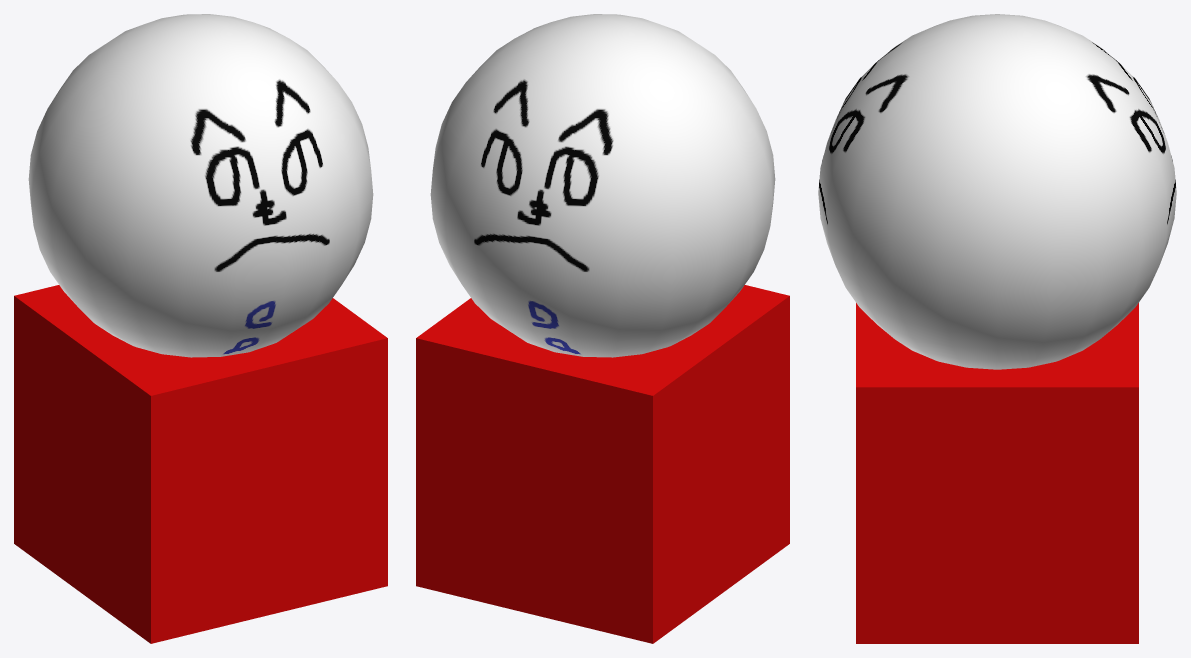
Rendered from sample.fbx.
3 views of the same model, side by side, from view 1: azimuth 30°, elevation 25°; view 2: azimuth 150°, elevation 25°; view 3: azimuth 270°, elevation 25° (orthographic). The views are drawn at different scales.
Visible parts, largest first — view 1: pCube1, pSphere1; view 2: pCube1, pSphere1; view 3: pSphere1, pCube1.
Boxes of the visible parts, left/top/right/bottom form: pCube1: left=14, top=285, right=387, bottom=643; pSphere1: left=28, top=14, right=373, bottom=357; pCube1: left=416, top=285, right=789, bottom=643; pSphere1: left=430, top=14, right=775, bottom=357; pSphere1: left=818, top=14, right=1176, bottom=369; pCube1: left=856, top=303, right=1138, bottom=643.
Bounding box in the file's own units: 1.27 × 2.16 × 1.27.
2 materials, 1 textured.
